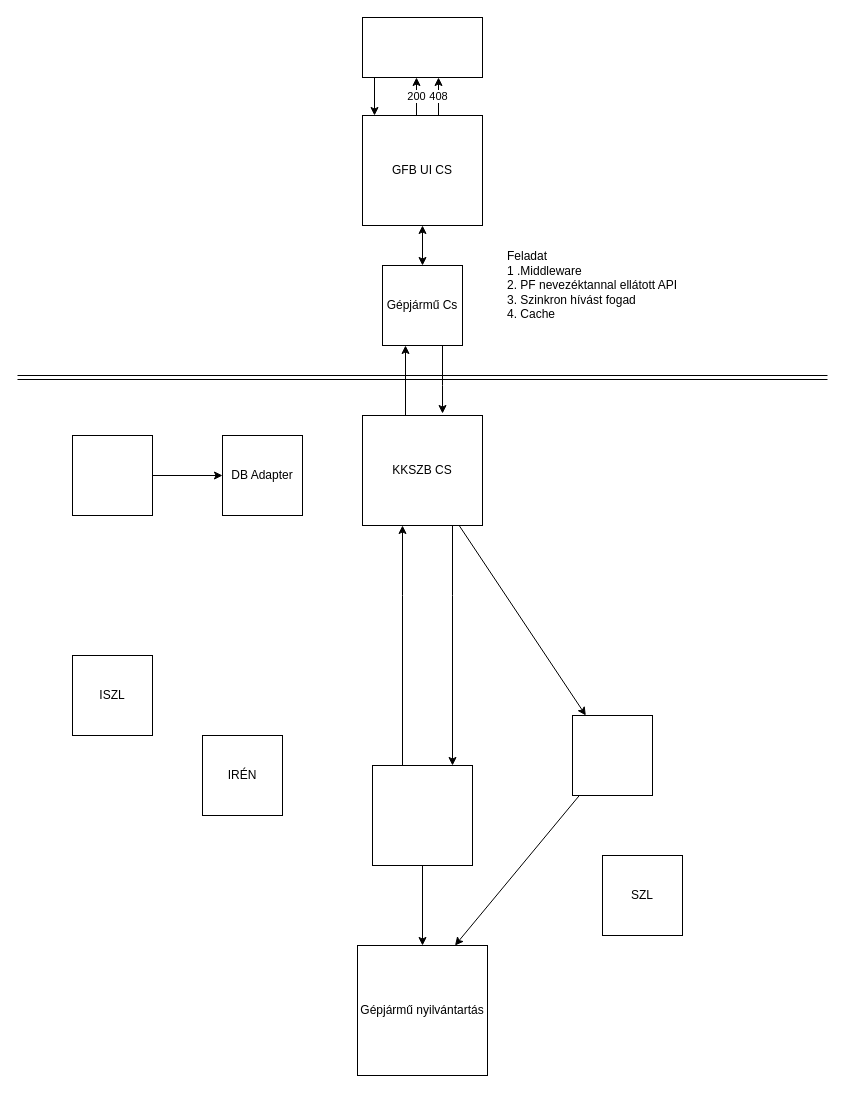
Some shapes in this 845 by 1093 pixel diagram are drawn without their labels. Here are the shapes that lost their labels. From the top down, the centre of each, then its label:
At point 422,47: "UI".
At point 112,475: "PF".
At point 612,755: "Primary Jármű SI".
At point 422,815: "Jármű SI".
